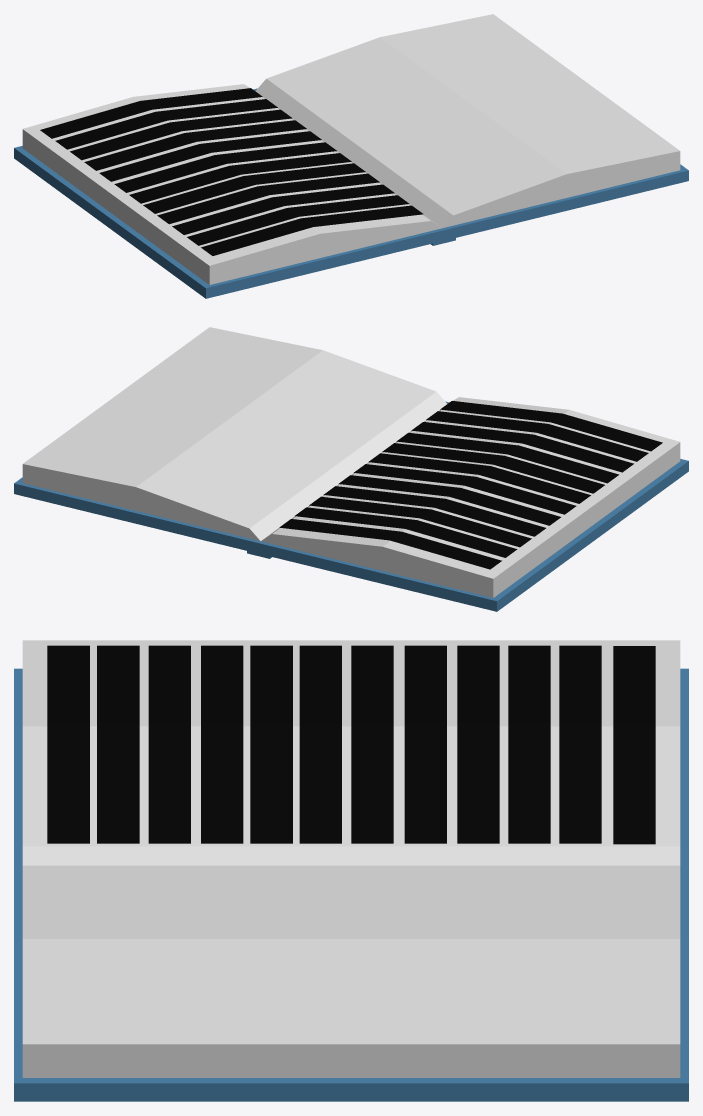
File: H_Book_Open_2.fbx
3 renders of one model, top to bottom at view 1: azimuth 30°, elevation 25°; view 2: azimuth 150°, elevation 25°; view 3: azimuth 270°, elevation 25°, orthographic. The views are drawn at different scales.
Parts seen in each view (by area): view 1: H_Book_Open_2; view 2: H_Book_Open_2; view 3: H_Book_Open_2.
Boxes of the visible parts, x1,y1,x2,y2 form: H_Book_Open_2: (14, 14, 688, 298); H_Book_Open_2: (14, 327, 688, 611); H_Book_Open_2: (14, 640, 688, 1101).
Size of the model in its own units: 192 by 132 by 14.72.
